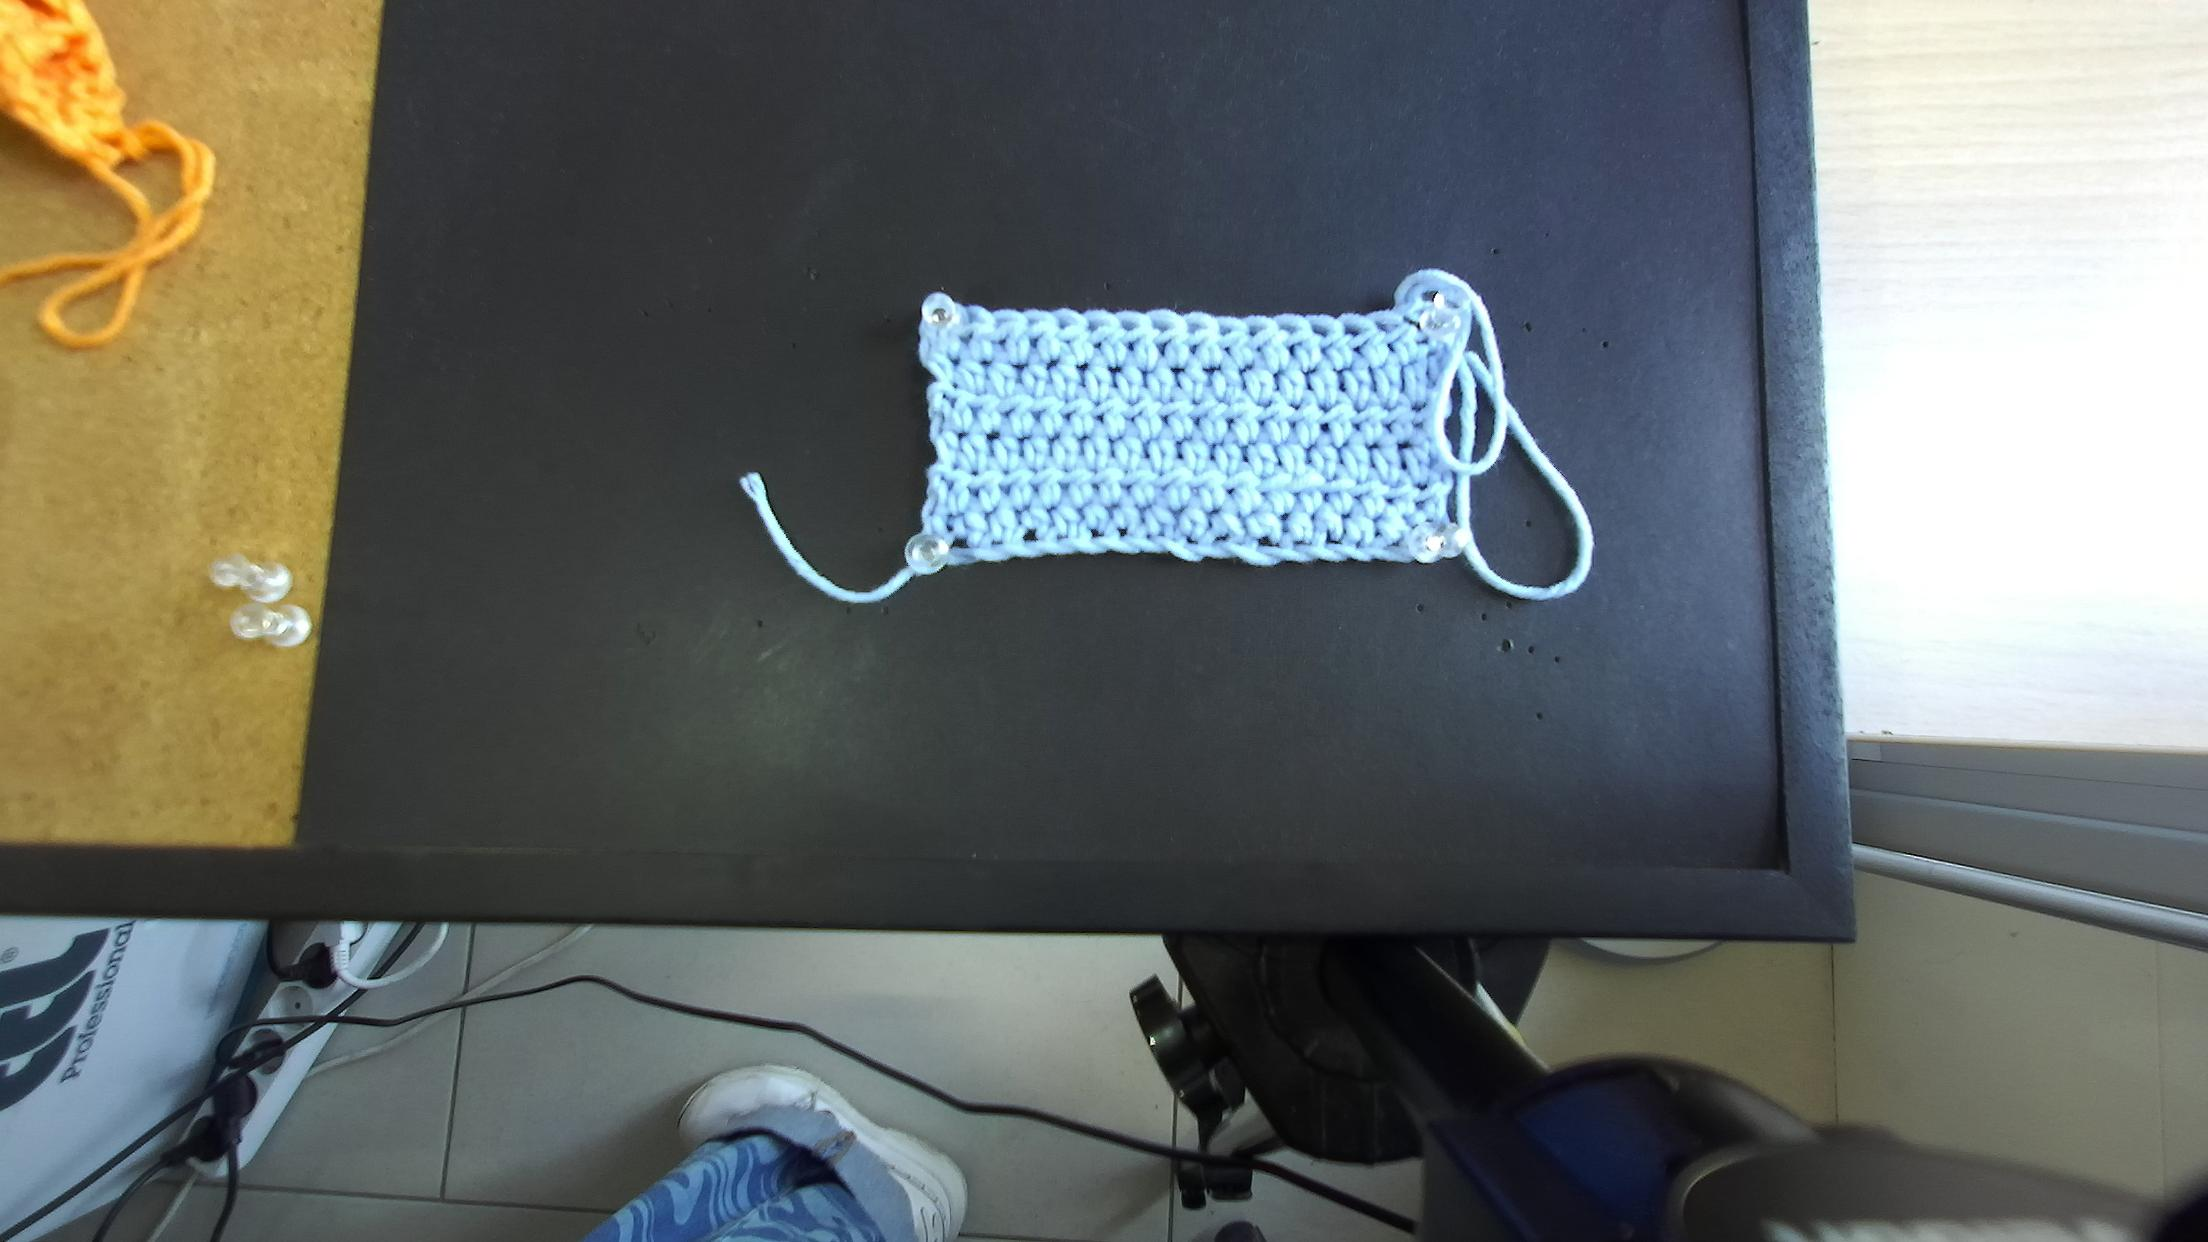hole: (1149, 318, 1175, 334), (1186, 321, 1210, 335), (1403, 315, 1422, 332), (1344, 325, 1365, 340), (1248, 325, 1268, 340), (1375, 323, 1400, 335), (963, 314, 984, 328), (1087, 318, 1106, 334), (1310, 323, 1328, 338), (1275, 325, 1298, 335), (995, 318, 1016, 329), (1059, 317, 1074, 329), (1122, 320, 1137, 332), (1219, 325, 1234, 337), (1027, 318, 1042, 326)
swatch: (907, 278, 1480, 573)
